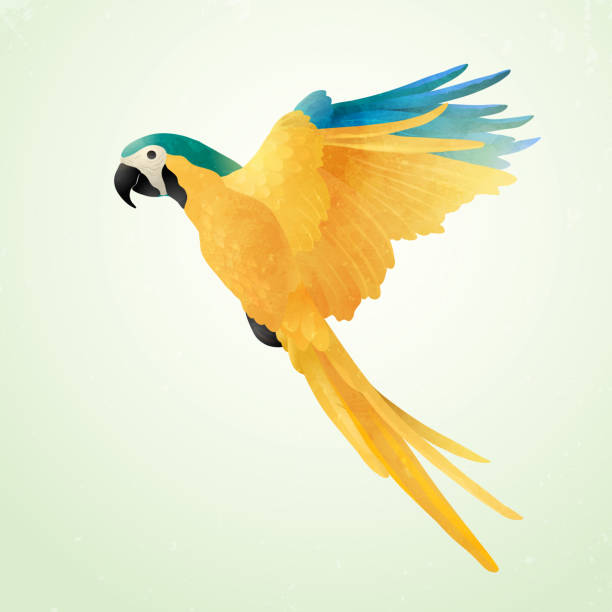Bird: (101, 55, 542, 581)
